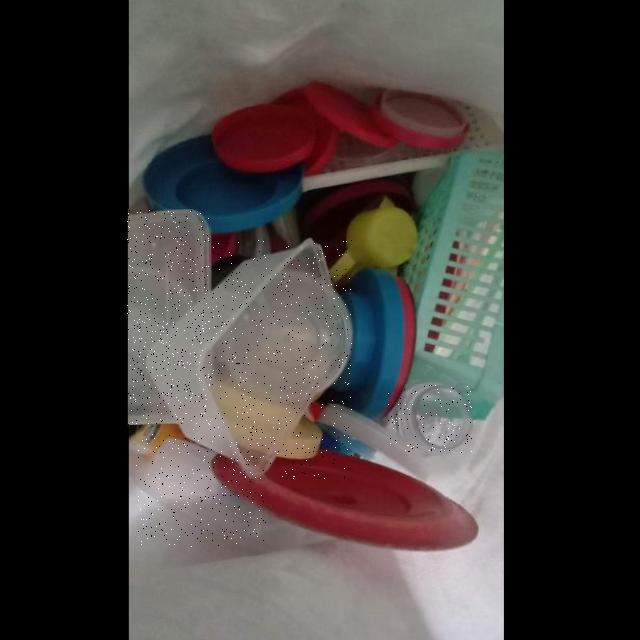metal: (128, 425, 192, 459)
plastic: (146, 240, 352, 479), (128, 210, 210, 427), (137, 439, 267, 547), (388, 384, 472, 453)
